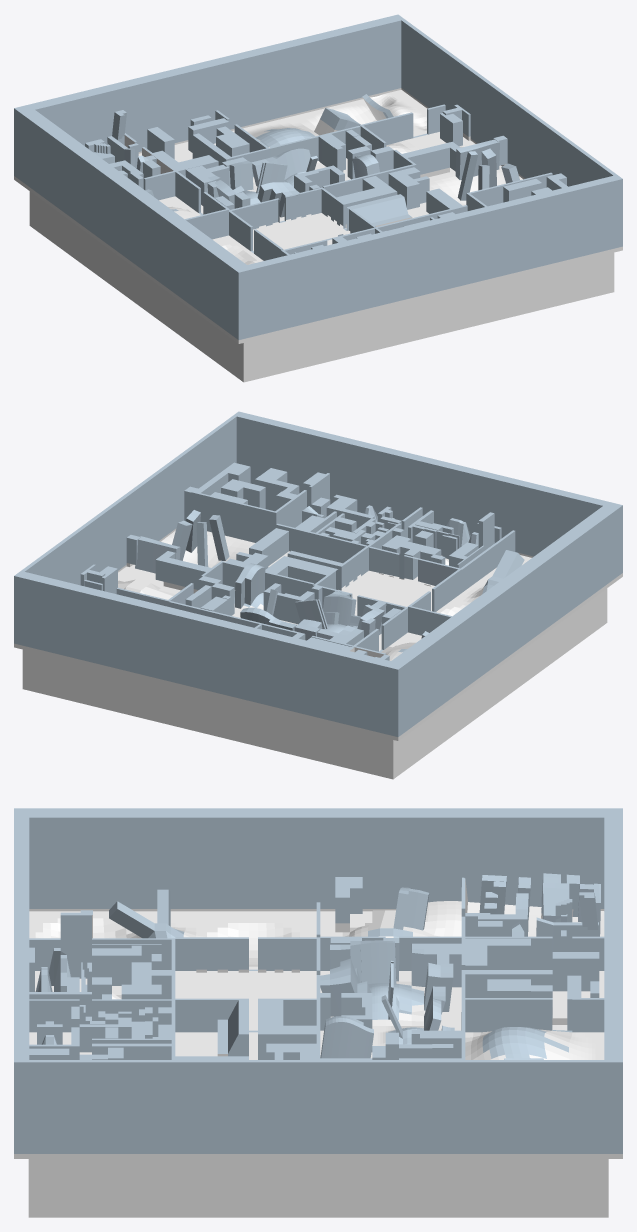
Rendered from Backrooms1.fbx.
3 views of the same model, one above another, from view 1: azimuth 30°, elevation 25°; view 2: azimuth 150°, elevation 25°; view 3: azimuth 270°, elevation 25° (orthographic). The views are drawn at different scales.
Parts seen in each view (by area): view 1: Floor; view 2: Floor; view 3: Floor.
Boxes of the visible parts, x1=… form: Floor: x1=14, y1=14, x2=622, y2=382; Floor: x1=14, y1=411, x2=622, y2=779; Floor: x1=14, y1=808, x2=622, y2=1217.
Size of the model in its own units: 20733 by 6061 by 21000.
